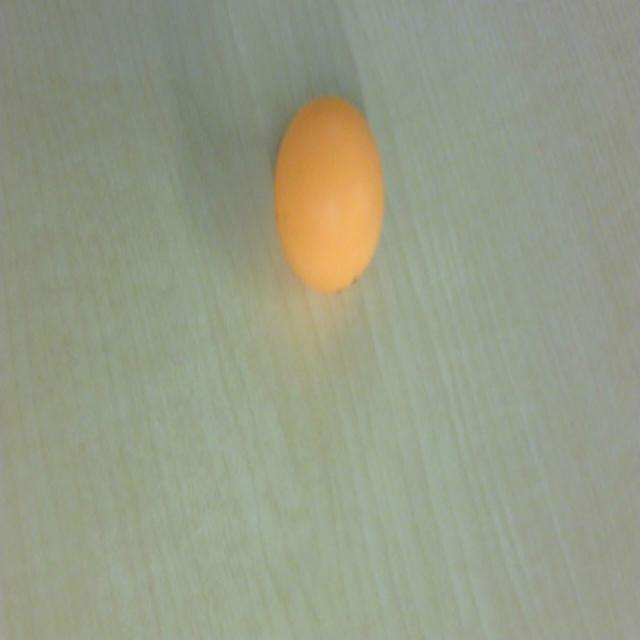ball: (273, 94, 386, 296)
